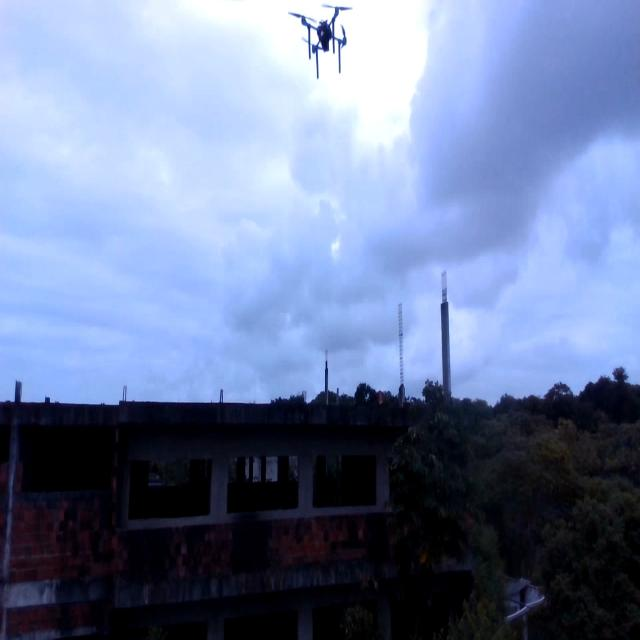-uav-: (283, 3, 381, 87)
